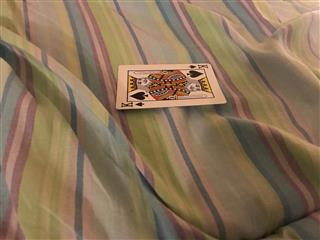KingOfSpades: (114, 62, 227, 109)
